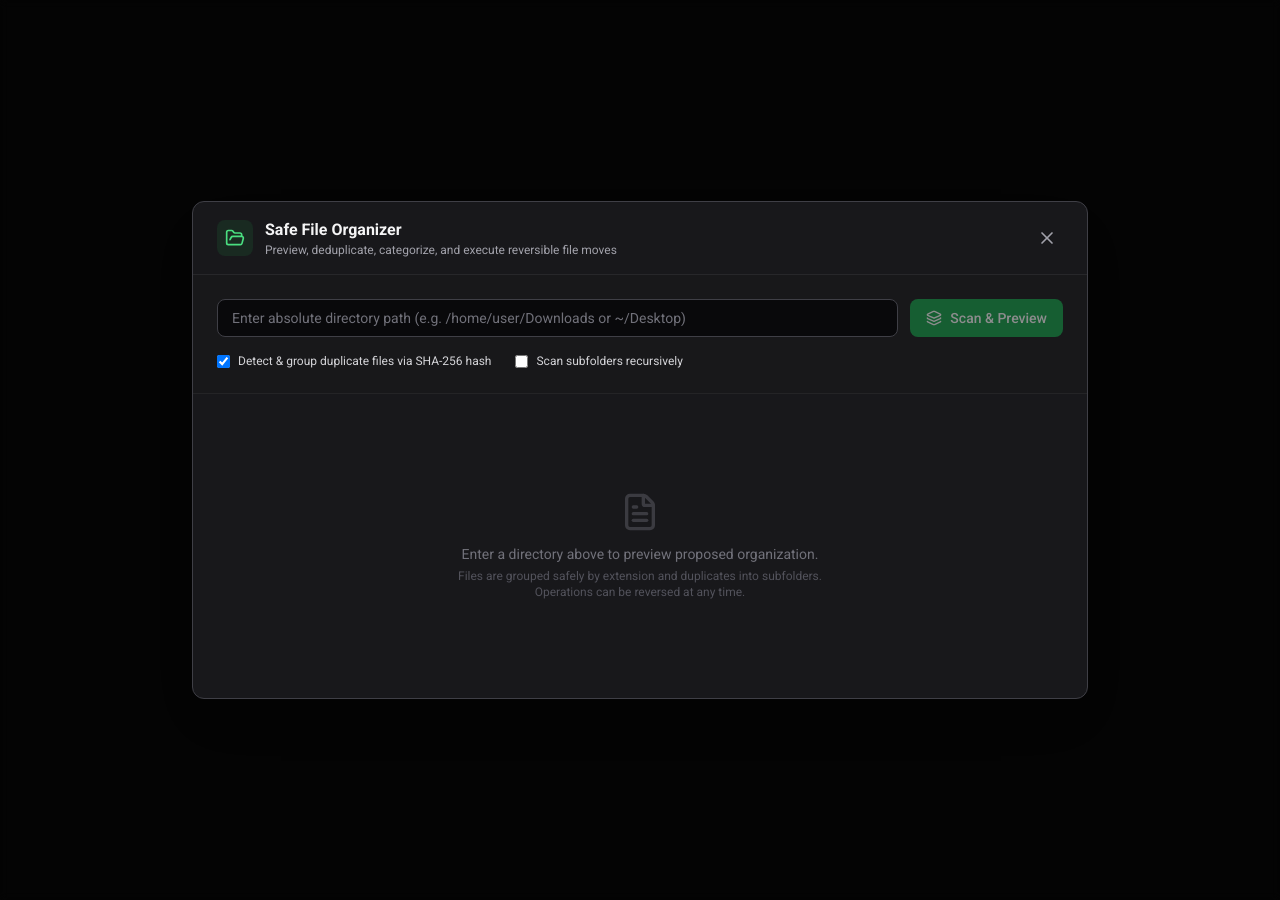
Frontend Climax to 95%+ Coverage Suite › FileOrganizerModal Empty State and Undo Handling › handles empty operations in preview and undo failure notices
The width and height of the screenshot is (1280, 900).
Replace the text in the field with placeholder "Enter absolute directory path" with "/home/snigdha/Downloads": (558,318) [217,299,898,337]
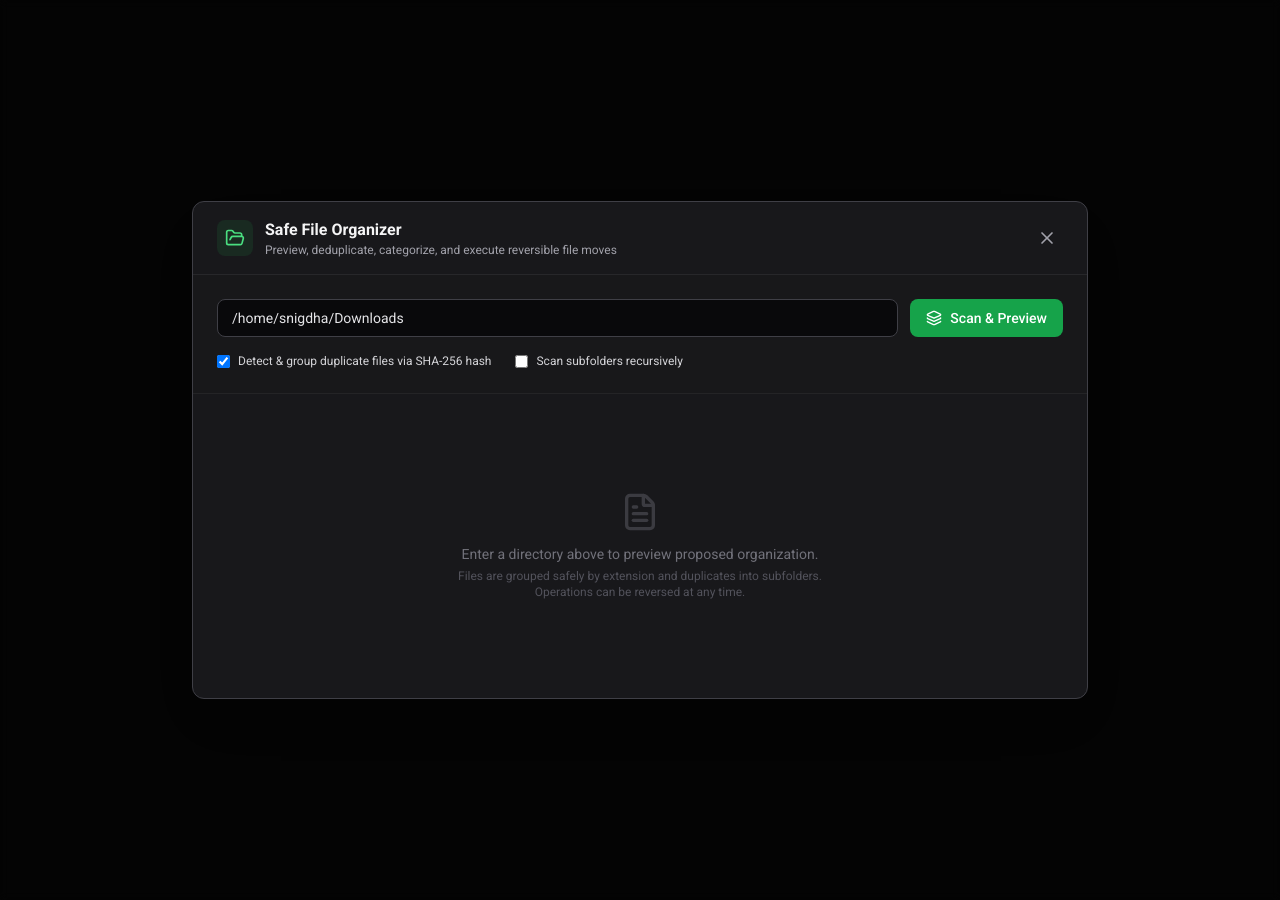
Click the button "Scan & Preview": (987,318) [910,299,1063,337]
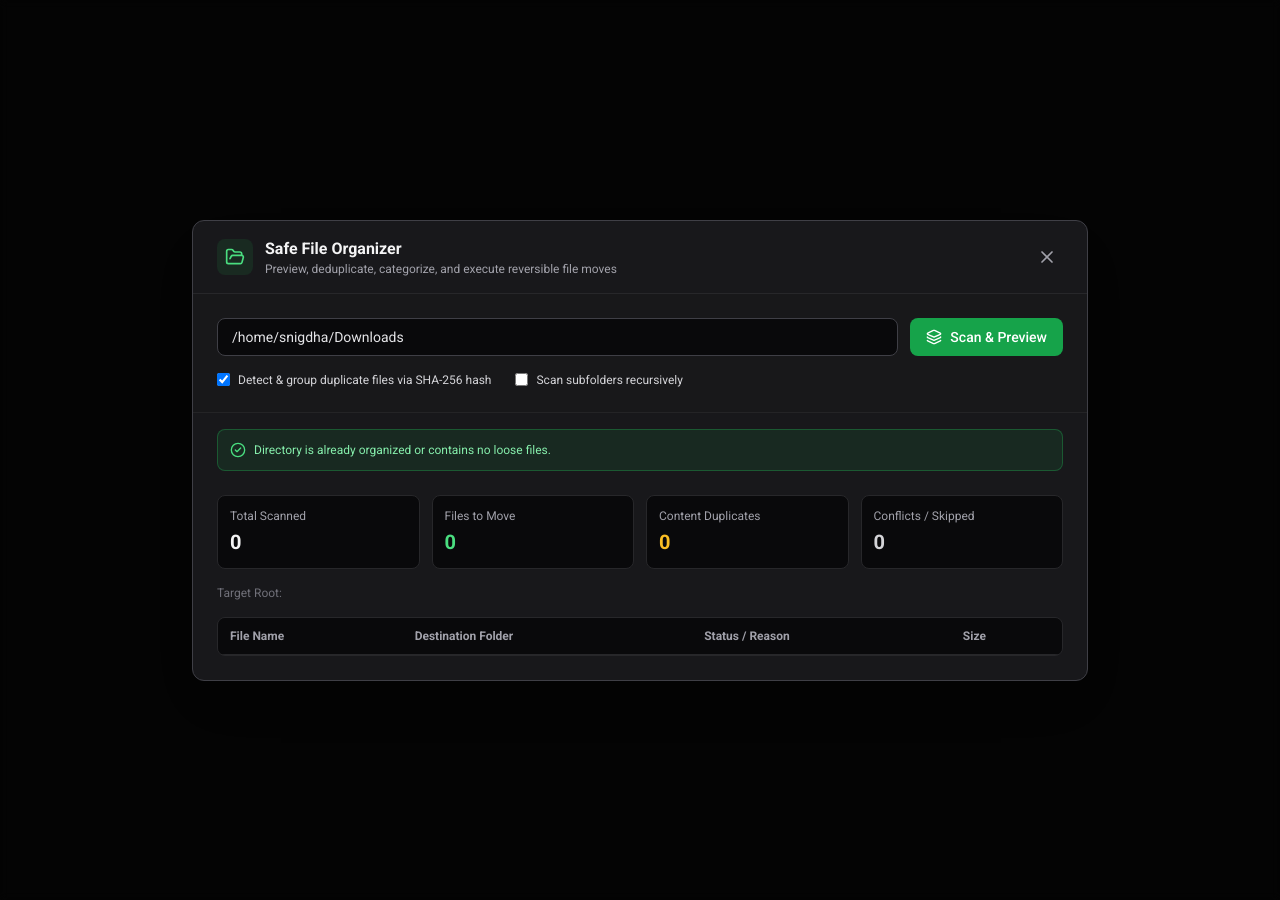
Now the text "Directory is already organized or contains no loose files." is shown, box [254,442,551,458]
